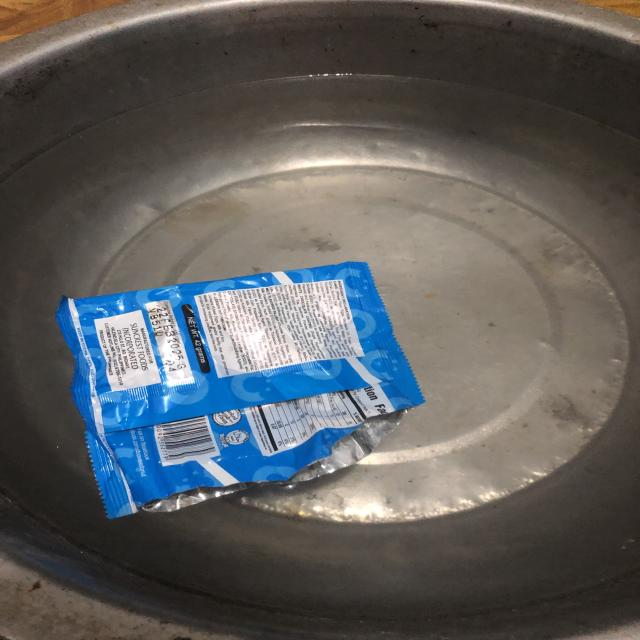Plastic Wrapper: (58, 268, 432, 516)
